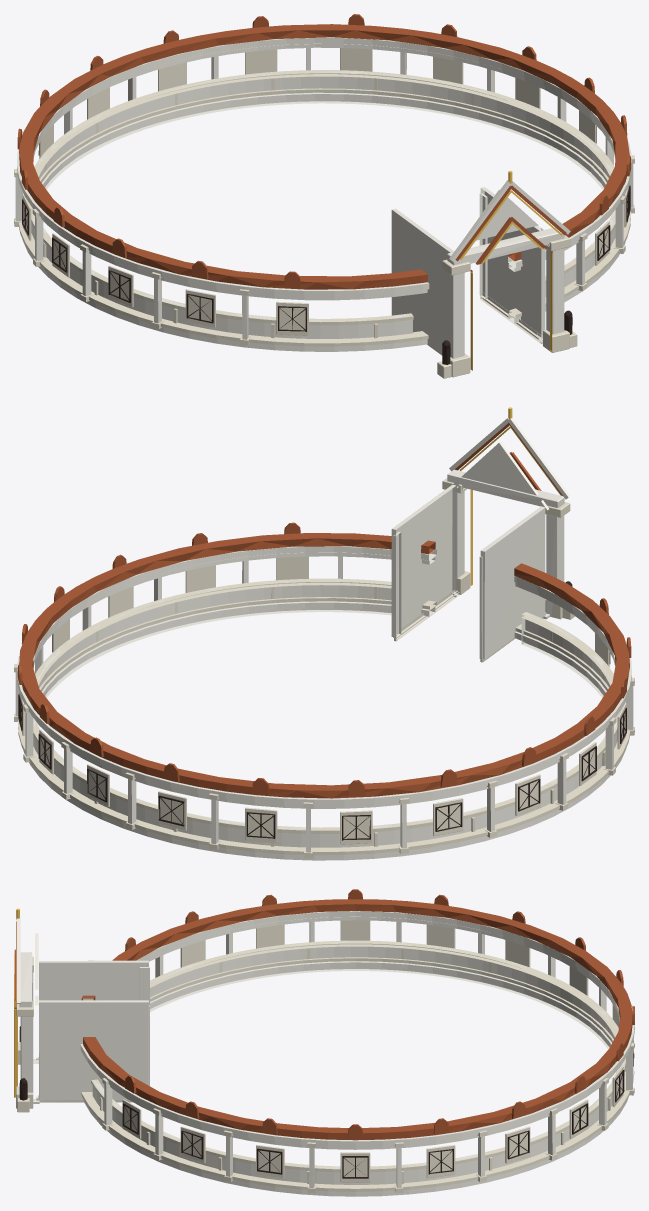
Rendered from HNP_Chedi_M03_ReferenceFacade_v005.fbx.
3 views of the same model, one above another, from view 1: azimuth 30°, elevation 25°; view 2: azimuth 150°, elevation 25°; view 3: azimuth 270°, elevation 25° (orthographic). The views are drawn at different scales.
Parts seen in each view (by area): view 1: HNP_Chedi_v004_M03_ReferenceFacade__HNP_Chedi_White, HNP_Chedi_v004_M03_ReferenceFacade__HNP_Chedi_Ivory, HNP_Chedi_v004_M03_ReferenceFacade__HNP_Chedi_Terracotta, HNP_Chedi_v004_M03_ReferenceFacade__HNP_Chedi_DarkInset, HNP_Chedi_v004_M03_ReferenceFacade__HNP_Chedi_GoldTrim; view 2: HNP_Chedi_v004_M03_ReferenceFacade__HNP_Chedi_White, HNP_Chedi_v004_M03_ReferenceFacade__HNP_Chedi_Ivory, HNP_Chedi_v004_M03_ReferenceFacade__HNP_Chedi_Terracotta, HNP_Chedi_v004_M03_ReferenceFacade__HNP_Chedi_DarkInset; view 3: HNP_Chedi_v004_M03_ReferenceFacade__HNP_Chedi_White, HNP_Chedi_v004_M03_ReferenceFacade__HNP_Chedi_Ivory, HNP_Chedi_v004_M03_ReferenceFacade__HNP_Chedi_Terracotta, HNP_Chedi_v004_M03_ReferenceFacade__HNP_Chedi_DarkInset, HNP_Chedi_v004_M03_ReferenceFacade__HNP_Chedi_GoldTrim.
Boxes of the visible parts, x1,y1,x2,y2 form: HNP_Chedi_v004_M03_ReferenceFacade__HNP_Chedi_White: [15, 37, 633, 358]; HNP_Chedi_v004_M03_ReferenceFacade__HNP_Chedi_Ivory: [14, 48, 634, 378]; HNP_Chedi_v004_M03_ReferenceFacade__HNP_Chedi_Terracotta: [17, 14, 631, 289]; HNP_Chedi_v004_M03_ReferenceFacade__HNP_Chedi_DarkInset: [22, 126, 630, 364]; HNP_Chedi_v004_M03_ReferenceFacade__HNP_Chedi_GoldTrim: [460, 171, 562, 370]; HNP_Chedi_v004_M03_ReferenceFacade__HNP_Chedi_White: [15, 417, 633, 860]; HNP_Chedi_v004_M03_ReferenceFacade__HNP_Chedi_Ivory: [14, 478, 634, 857]; HNP_Chedi_v004_M03_ReferenceFacade__HNP_Chedi_Terracotta: [17, 423, 631, 798]; HNP_Chedi_v004_M03_ReferenceFacade__HNP_Chedi_DarkInset: [18, 581, 626, 840]; HNP_Chedi_v004_M03_ReferenceFacade__HNP_Chedi_White: [16, 911, 634, 1196]; HNP_Chedi_v004_M03_ReferenceFacade__HNP_Chedi_Ivory: [16, 920, 634, 1193]; HNP_Chedi_v004_M03_ReferenceFacade__HNP_Chedi_Terracotta: [14, 889, 634, 1140]; HNP_Chedi_v004_M03_ReferenceFacade__HNP_Chedi_DarkInset: [19, 1026, 633, 1178]; HNP_Chedi_v004_M03_ReferenceFacade__HNP_Chedi_GoldTrim: [14, 908, 19, 1097].
Size of the model in its own units: 47.9 by 16.4 by 53.22.
